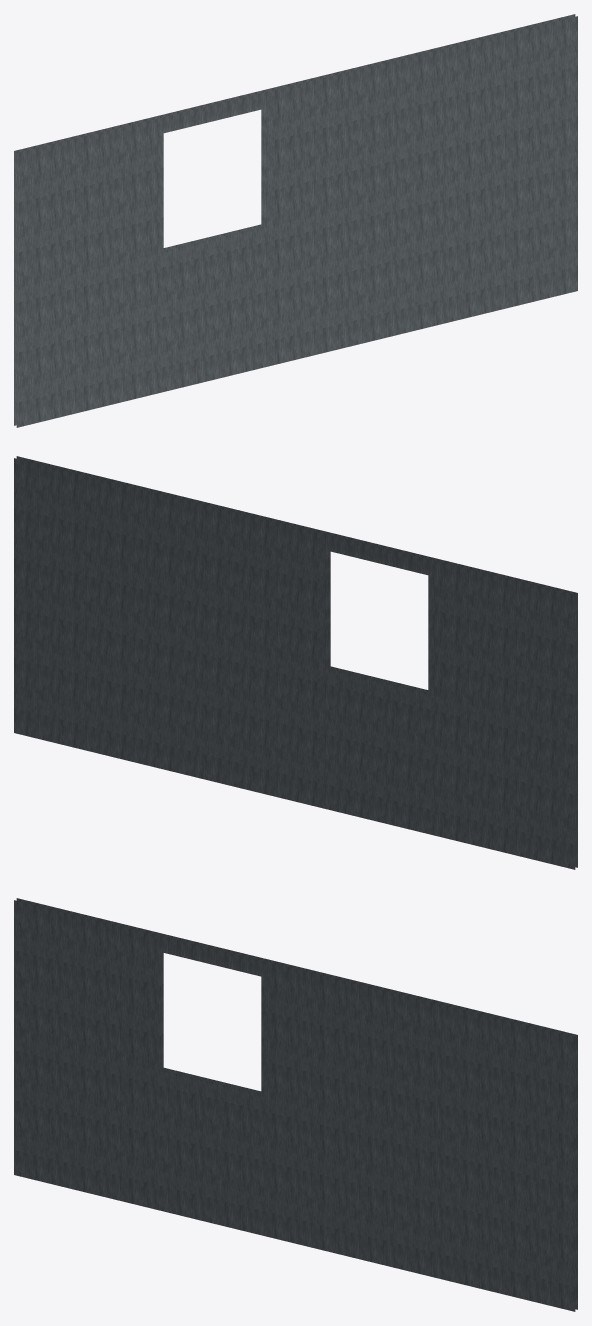
File: floor_18.obj
3 renders of one model, top to bottom at view 1: azimuth 30°, elevation 25°; view 2: azimuth 150°, elevation 25°; view 3: azimuth 330°, elevation 25°, orthographic.
Visible parts, largest first — view 1: floor_18; view 2: floor_18; view 3: floor_18.
Boxes of the visible parts, bbox=[...] form: floor_18: bbox=[14, 14, 577, 427]; floor_18: bbox=[14, 456, 577, 869]; floor_18: bbox=[14, 898, 577, 1311].
Bounding box in the file's own units: 11.75 × 5.5 × 0.1.
1 material, 1 textured.
